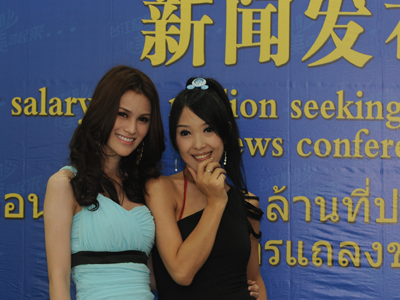face: (175, 106, 225, 168), (101, 93, 150, 154)
